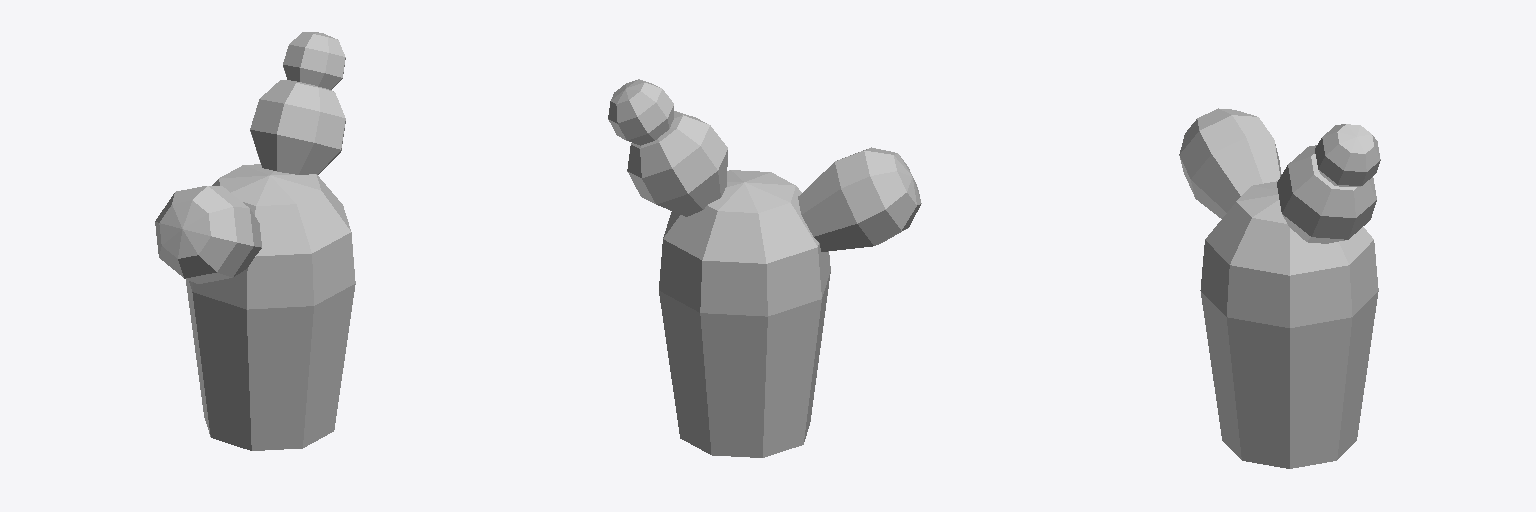
The model's file is cactus.obj.
3 renders of one model, left to right at view 1: azimuth 30°, elevation 25°; view 2: azimuth 150°, elevation 25°; view 3: azimuth 270°, elevation 25°, orthographic.
Visible parts, largest first — view 1: obj1; view 2: obj1; view 3: obj1.
Part boxes in pixels (bbox=[...]): obj1: bbox=[155, 32, 355, 450]; obj1: bbox=[608, 79, 921, 457]; obj1: bbox=[1179, 108, 1380, 468].
Size of the model in its own units: 46.36 by 64.05 by 33.22.